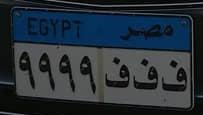9: (17, 50, 37, 93), (76, 53, 96, 94), (37, 52, 55, 93), (58, 52, 75, 94)
faa: (160, 56, 189, 96), (102, 54, 131, 92), (132, 58, 159, 94)
